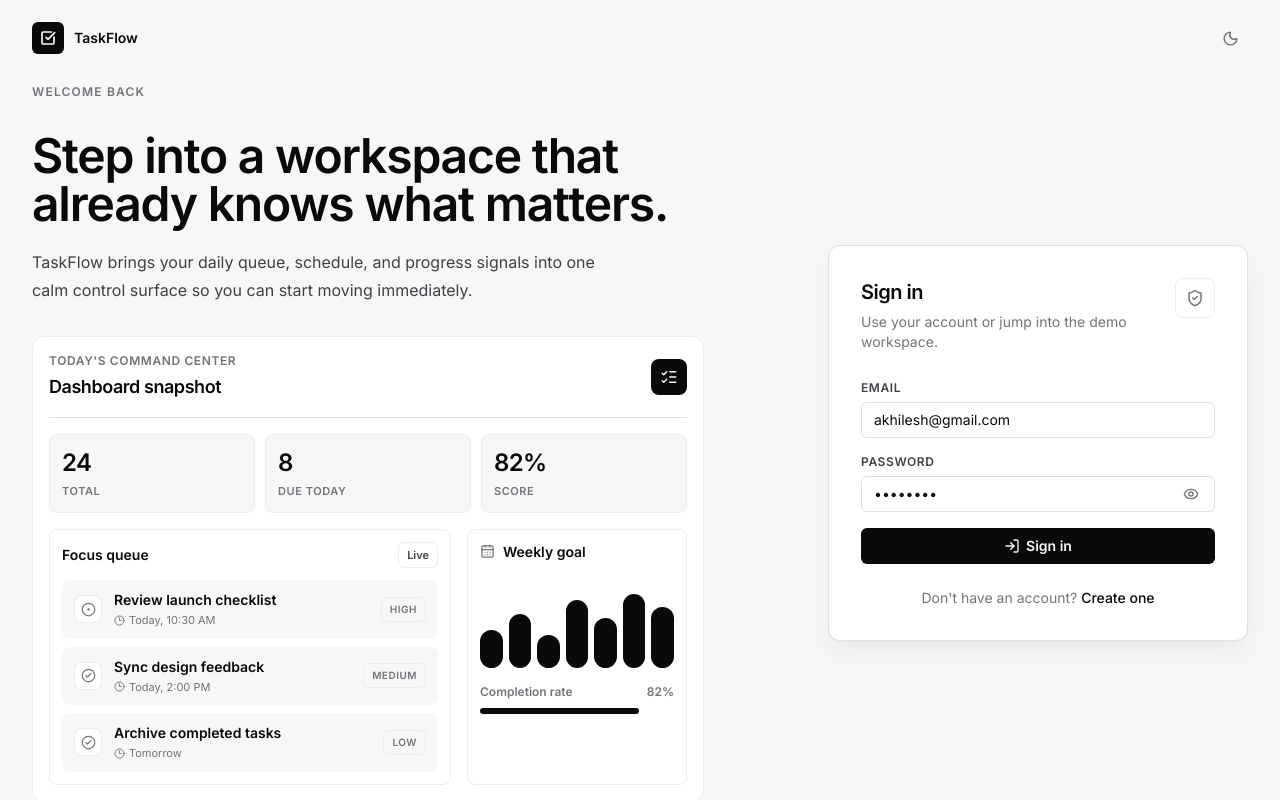
Test: Accessibility Standards (WCAG 2.2 AA) › Semantic Form Accessibility › LoginPage form inputs have proper label association and validation error attributes
The width and height of the screenshot is (1280, 800).
# Set email but leave password empty to trigger field validation
Replace the text in the field labelled "Email" with "user@example.com" at (1038, 420), box [861,402,1215,438]
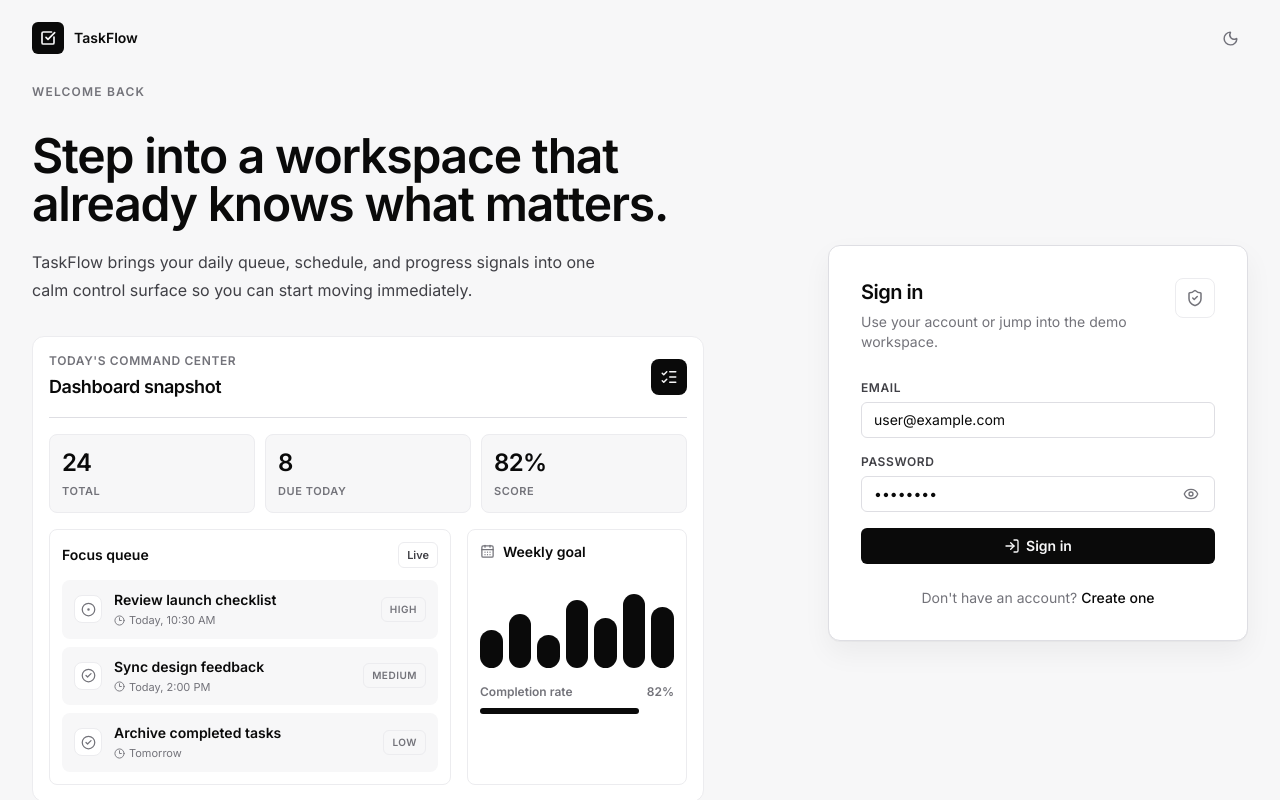
Clear the password field labelled "Password" at (1038, 494), box [861,476,1215,512]
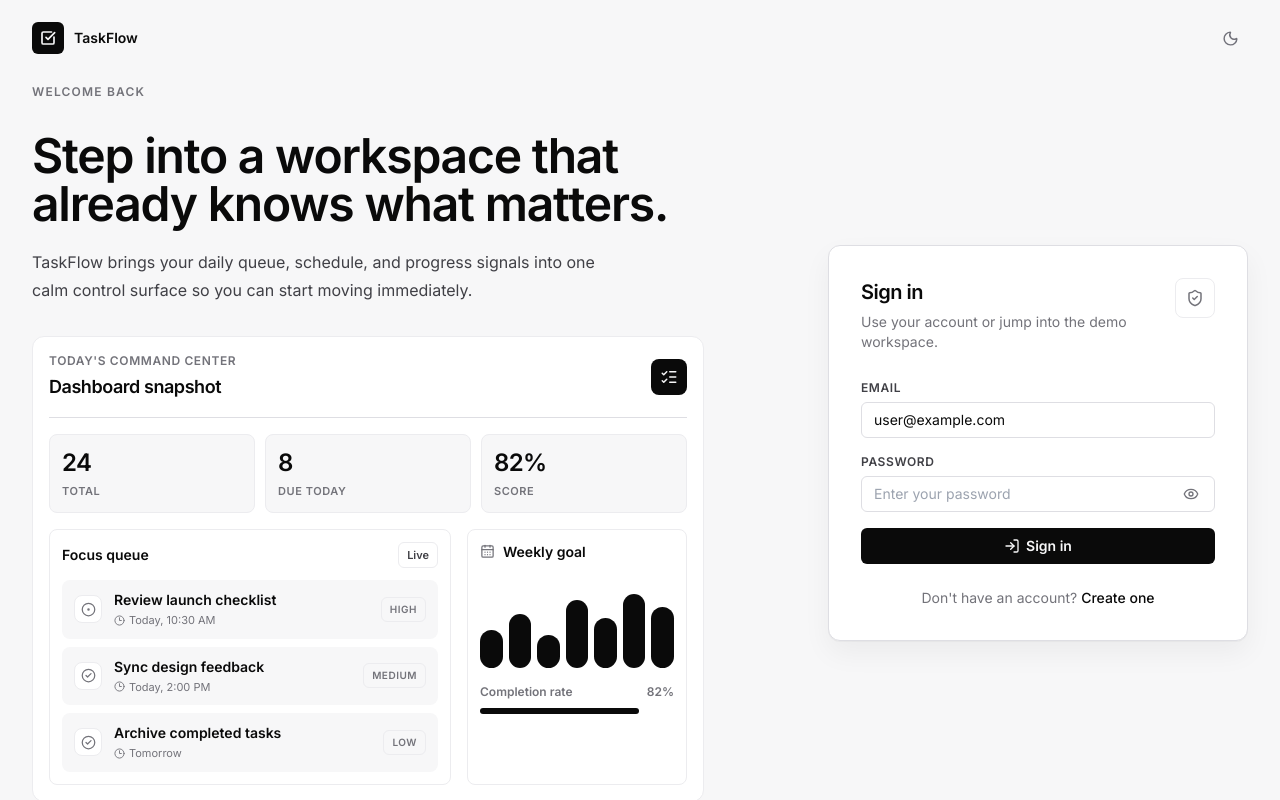
Click the button "Sign in" at (1038, 546), box [861,528,1215,564]
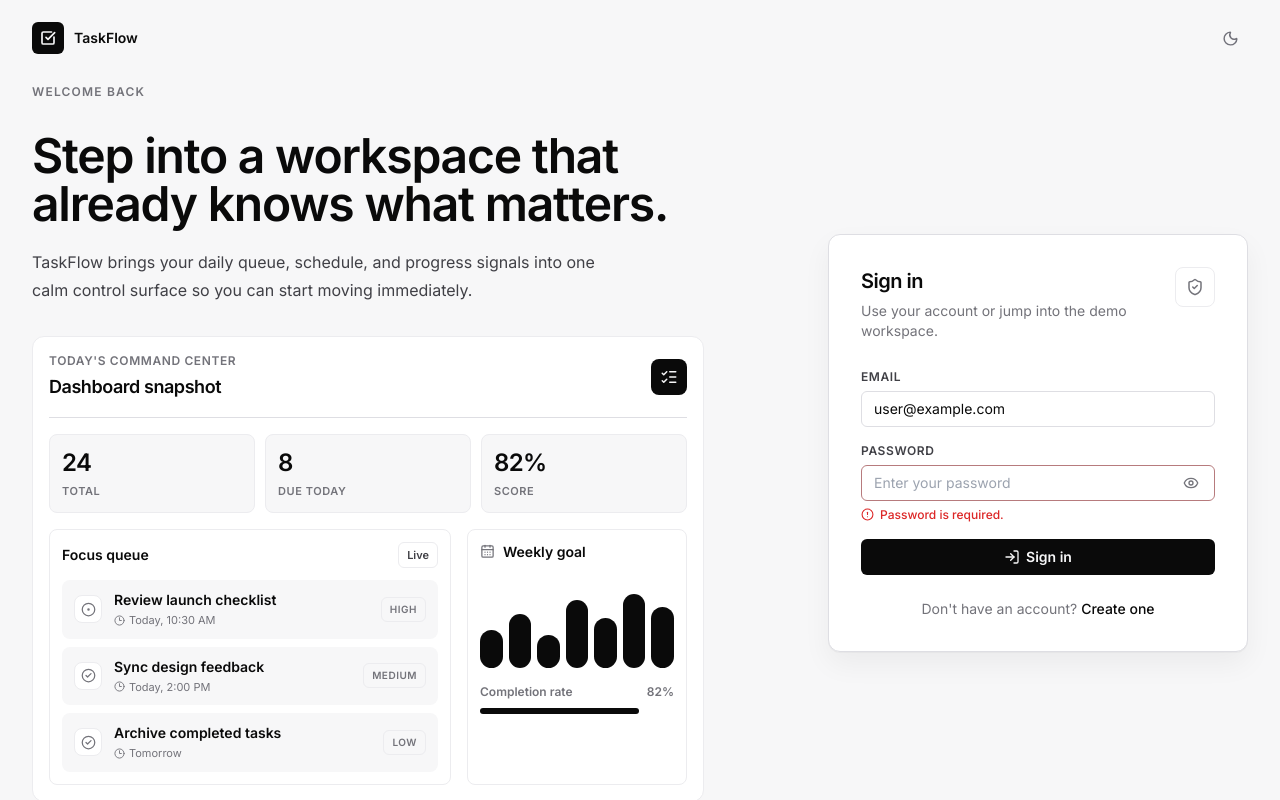
Now the message "Password is required." is shown, box [861,507,1004,522]
